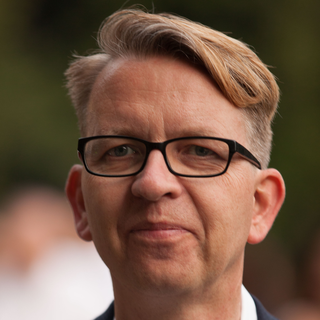eye: (171, 141, 224, 166), (94, 140, 142, 167)
